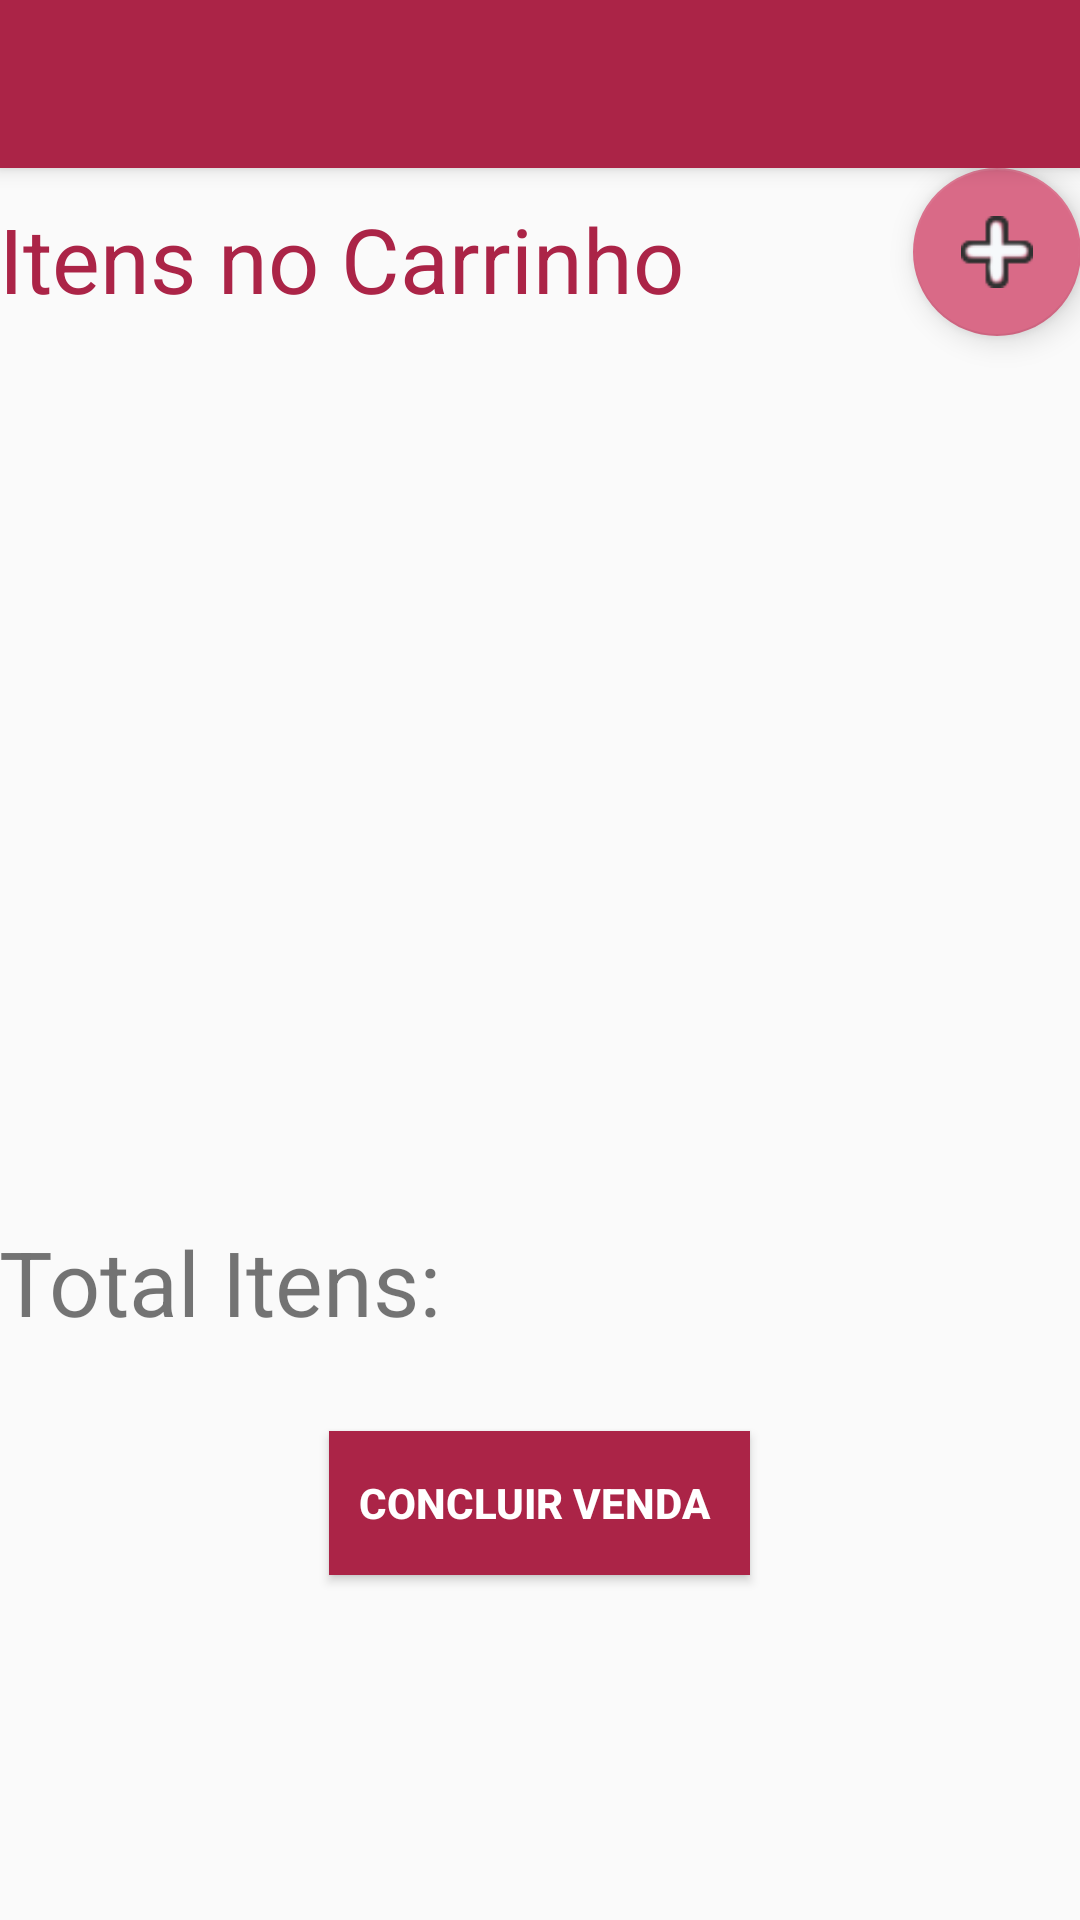

Screen size 1080×1920. Icon name, then its center in pixels as [x,y]:
novo: [996,252]
